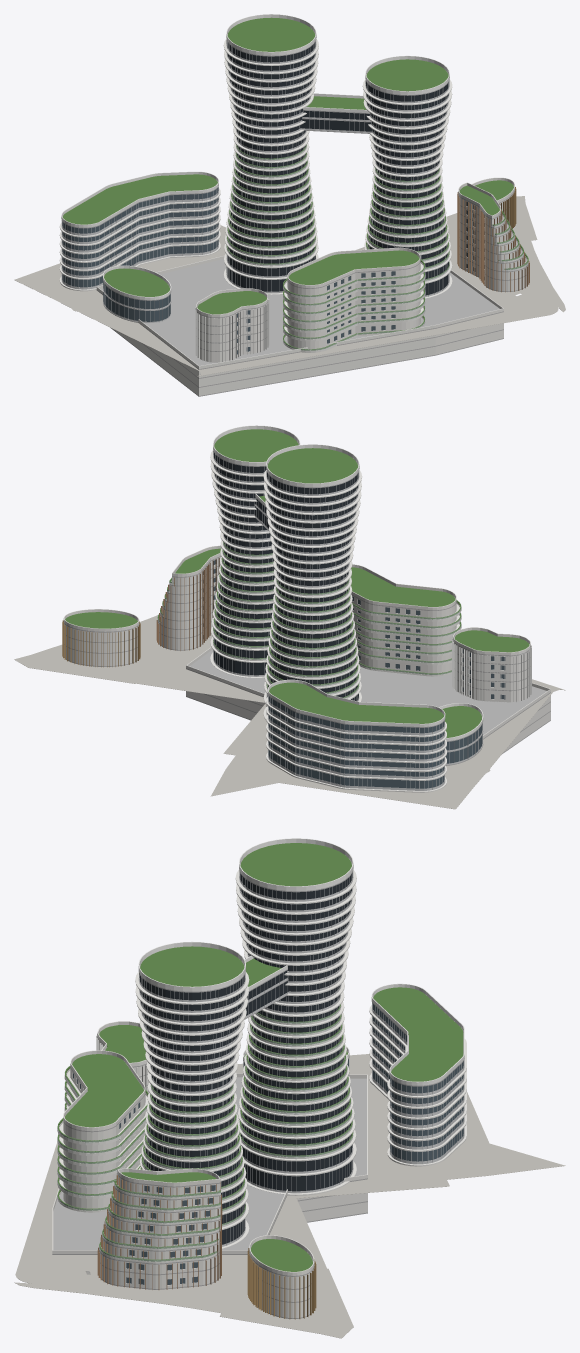
The picture shows the model from 3 angles, top to bottom: view 1: azimuth 30°, elevation 25°; view 2: azimuth 150°, elevation 25°; view 3: azimuth 270°, elevation 25°; orthographic projection. The views are drawn at different scales.
Parts seen in each view (by area): view 1: Site, U roof slab, D green roof, T1 green roof, C2 green roof, U-B1 ext wall 1, U-B2 ext wall 1, T2 green roof, U parapet, W green roof, D parapet, C1 green roof (+28 smaller); view 2: Site, U roof slab, D green roof, T1 green roof, C2 green roof, T2 green roof, D-GF curtain wall, D parapet, C1 green roof, D-L6 curtain wall, S green roof, W green roof (+30 smaller); view 3: Site, U roof slab, D green roof, C2 green roof, T1 green roof, T2 green roof, T1-GF curtain wall, S green roof, T1 parapet, C1 green roof, T2 parapet, D parapet (+22 smaller).
Part boxes in pixels (x1,y1,x2,y2): Site: (14,196,565,376); U roof slab: (96,259,503,369); D green roof: (62,174,217,224); T1 green roof: (227,17,315,51); C2 green roof: (288,250,419,284); U-B1 ext wall 1: (199,346,435,395); U-B2 ext wall 1: (199,337,435,386); T2 green roof: (366,59,448,91); U parapet: (96,255,503,369); W green roof: (104,268,169,296); D parapet: (61,171,218,227); C1 green roof: (197,291,266,314); Site: (14,615,565,809); U roof slab: (186,649,550,739); D green roof: (269,682,443,723); T1 green roof: (267,448,358,483); C2 green roof: (351,567,455,606); T2 green roof: (214,429,298,461); D-GF curtain wall: (268,750,444,788); D parapet: (267,679,445,726); C1 green roof: (454,630,529,652); D-L6 curtain wall: (268,696,444,733); S green roof: (65,612,137,628); W green roof: (442,706,481,737); Site: (14,1054,565,1338); U roof slab: (52,1077,367,1254); D green roof: (373,987,463,1081); C2 green roof: (65,1054,143,1127); T1 green roof: (240,843,351,886); T2 green roof: (140,946,244,986); T1-GF curtain wall: (244,1160,352,1191); S green roof: (251,1239,312,1271); T1 parapet: (239,838,353,891); C1 green roof: (99,1025,145,1062); T2 parapet: (138,941,245,991); D parapet: (371,983,464,1085).
Size of the model in its own units: 192 by 105 by 154.
